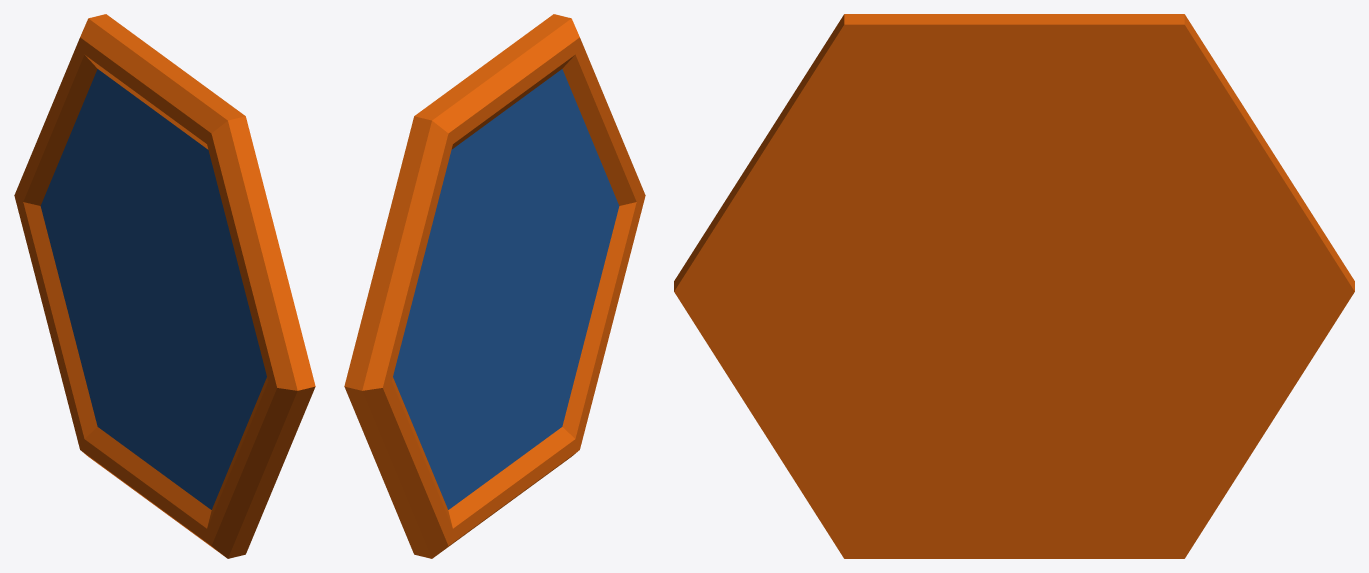
The model's file is menuItem2.glb.
3 views of the same model, side by side, from view 1: azimuth 30°, elevation 25°; view 2: azimuth 150°, elevation 25°; view 3: azimuth 270°, elevation 25° (orthographic). The views are drawn at different scales.
Visible parts, largest first — view 1: Center, menuItem; view 2: Center, menuItem; view 3: menuItem.
Part boxes in pixels (<box>): Center: <box>40,69,266,509</box>; menuItem: <box>14,14,315,558</box>; Center: <box>393,69,619,509</box>; menuItem: <box>344,14,645,558</box>; menuItem: <box>674,14,1354,558</box>.
Bounding box in the file's own units: 0.5 × 6.93 × 8.
